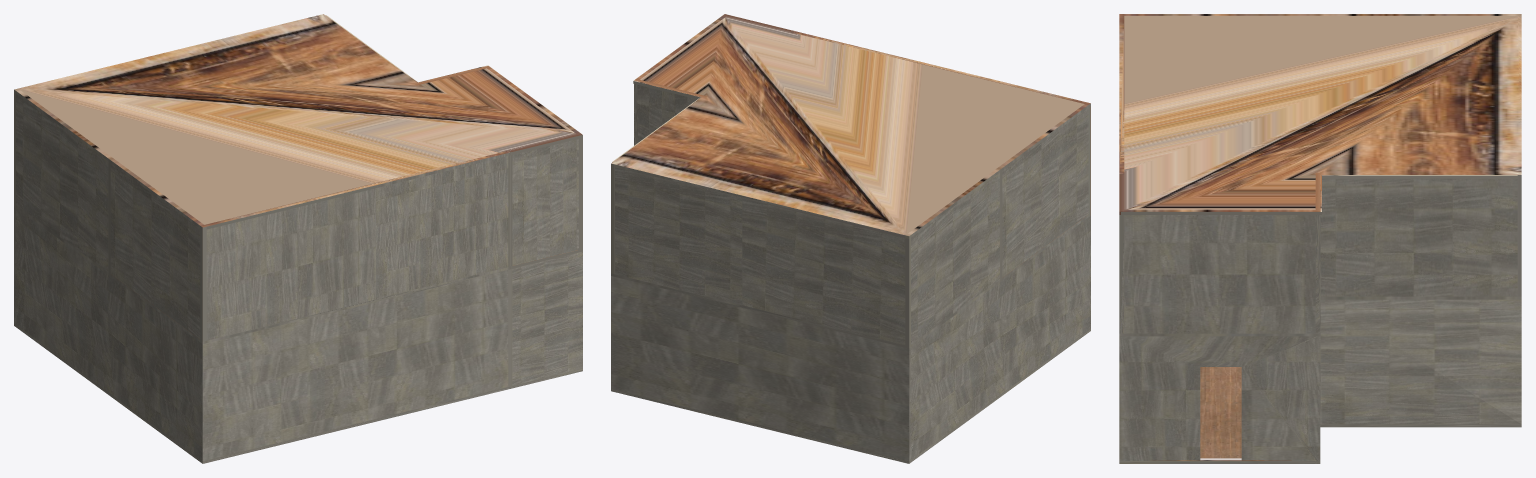
Rendered from casaNuova.fbx.
3 views of the same model, side by side, from view 1: azimuth 30°, elevation 25°; view 2: azimuth 150°, elevation 25°; view 3: azimuth 270°, elevation 25° (orthographic). The views are drawn at different scales.
Visible parts, largest first — view 1: Cube; view 2: Cube; view 3: Cube.
Part boxes in pixels (x1,y1,x2,y2): Cube: (14,14,582,463); Cube: (611,14,1090,463); Cube: (1119,14,1521,463).
Size of the model in its own units: 1014 by 602 by 871.
